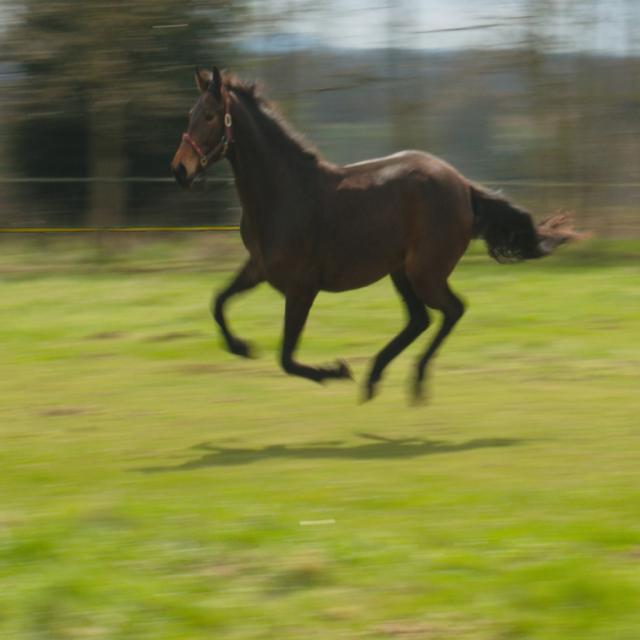Horse: (166, 64, 590, 408)
